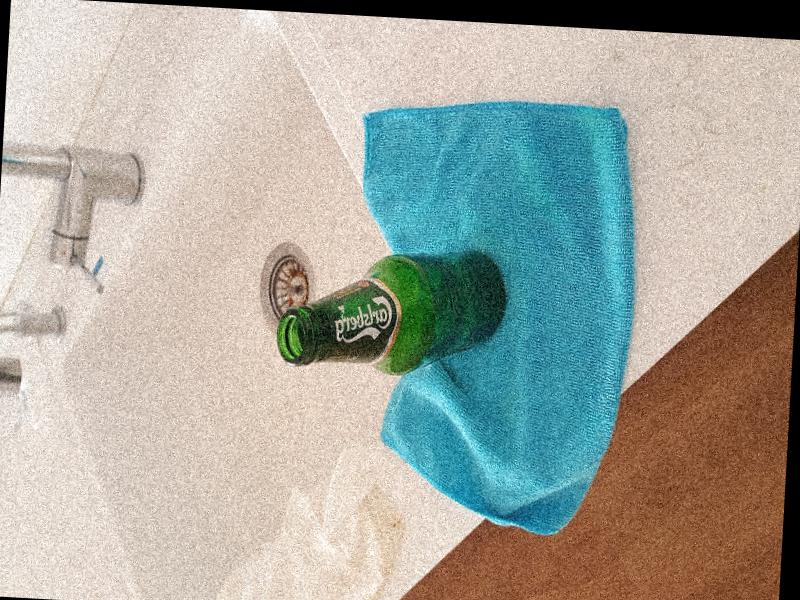Beer: (278, 244, 511, 382)
